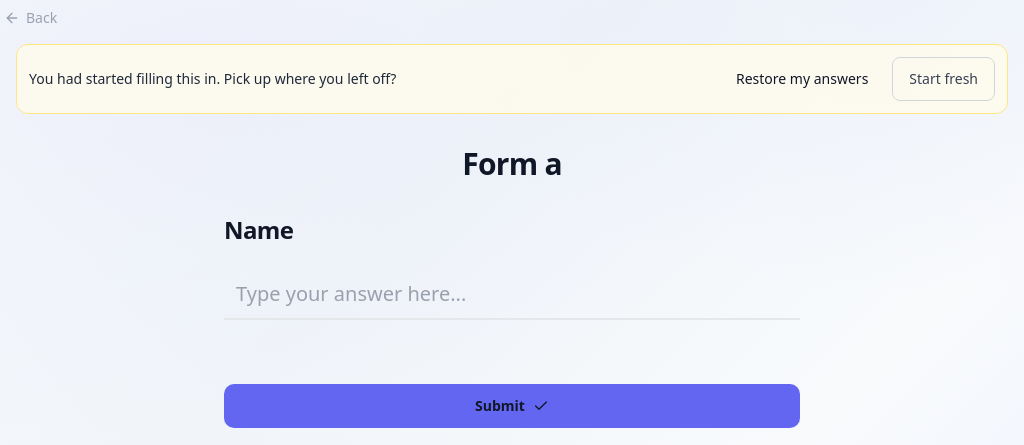
Scenario: app form visit state › a draft from before the key named its owner › is not read over a draft under the new key
Click the button "Restore my answers".
click(802, 79)  # box [720,57,884,101]
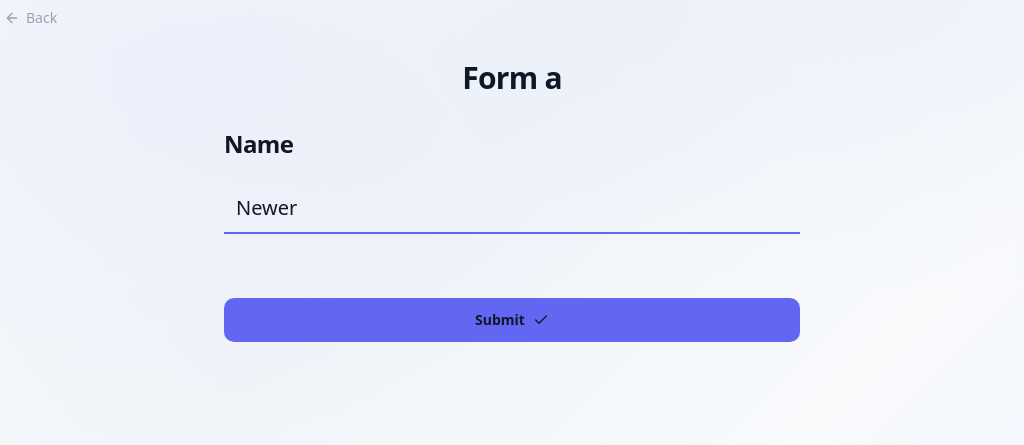
Result: the field named "Name" holds "Newer" at [224,184,800,234]
